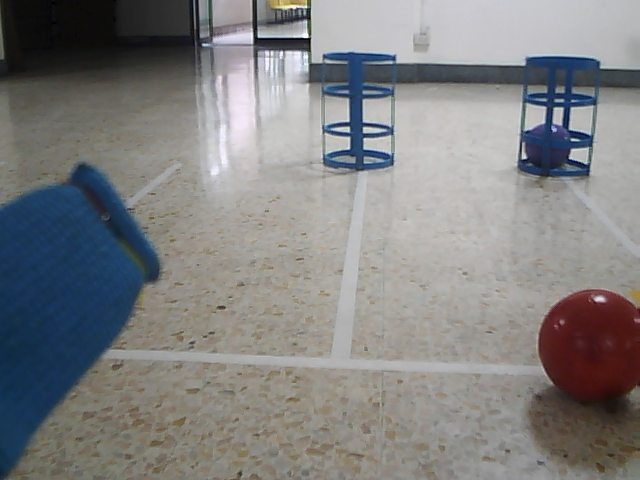Cyro: (515, 53, 603, 181), (317, 48, 398, 173)
Purple ball: (524, 121, 572, 173)
Red ball: (535, 286, 640, 406)
